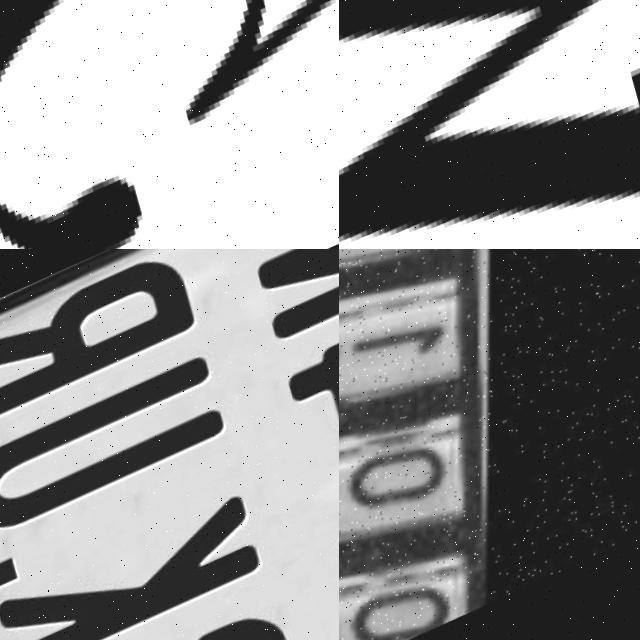0: (339, 411, 489, 558), (339, 549, 489, 640)
1: (339, 278, 482, 418)
4: (278, 259, 339, 460)
5: (0, 0, 339, 249)
8: (339, 249, 474, 282)
K: (0, 495, 275, 640)
N: (248, 249, 339, 351)
R: (0, 249, 207, 441)
U: (0, 354, 235, 548)
W: (339, 0, 640, 249)
